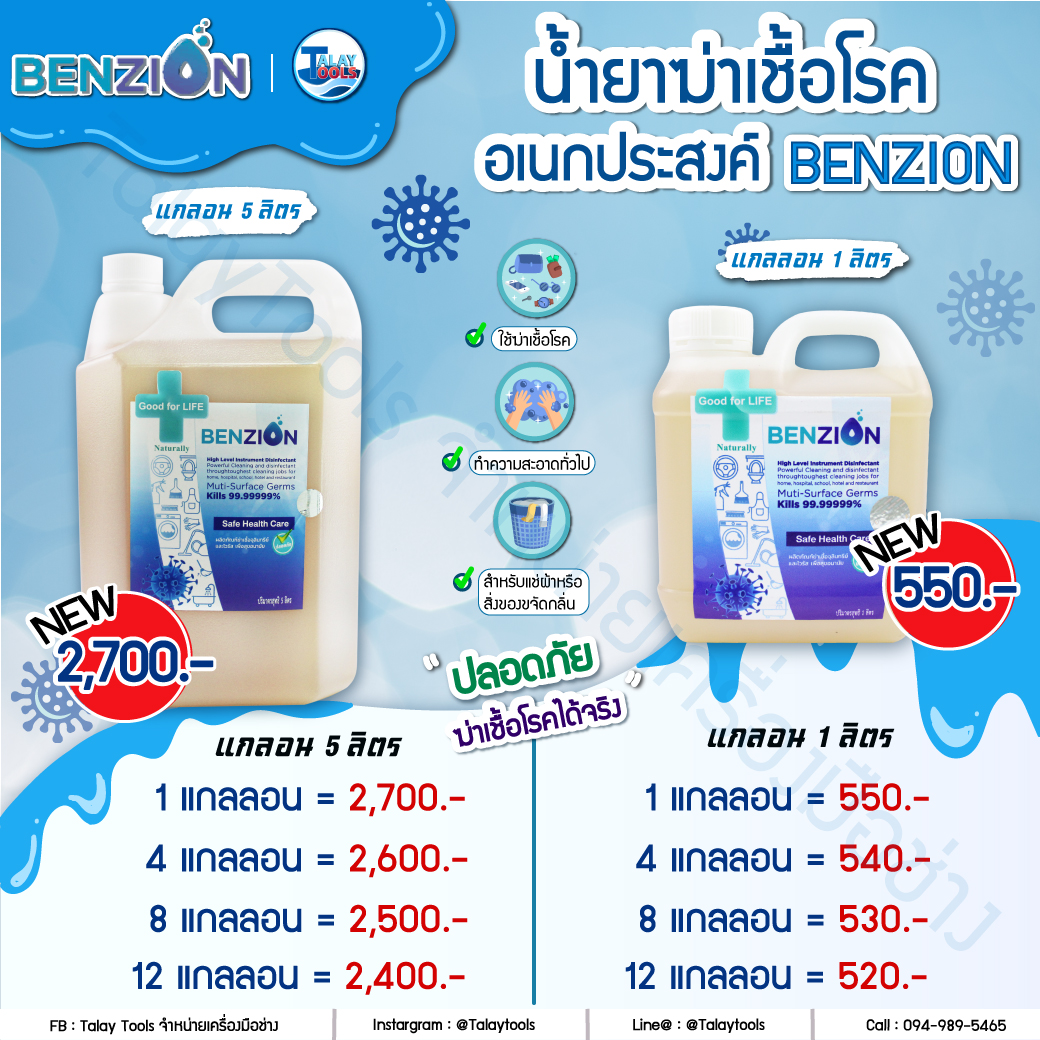Cleaning_solution: (66, 244, 369, 714), (639, 297, 947, 661)
